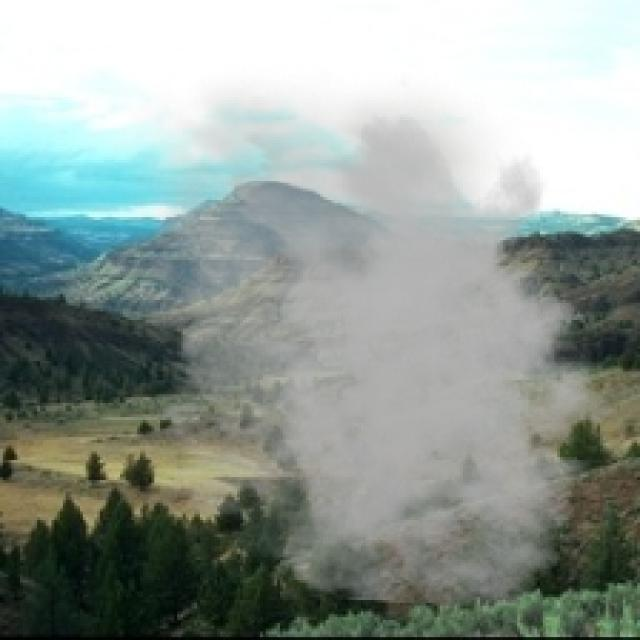Smoke: (94, 62, 632, 614)
